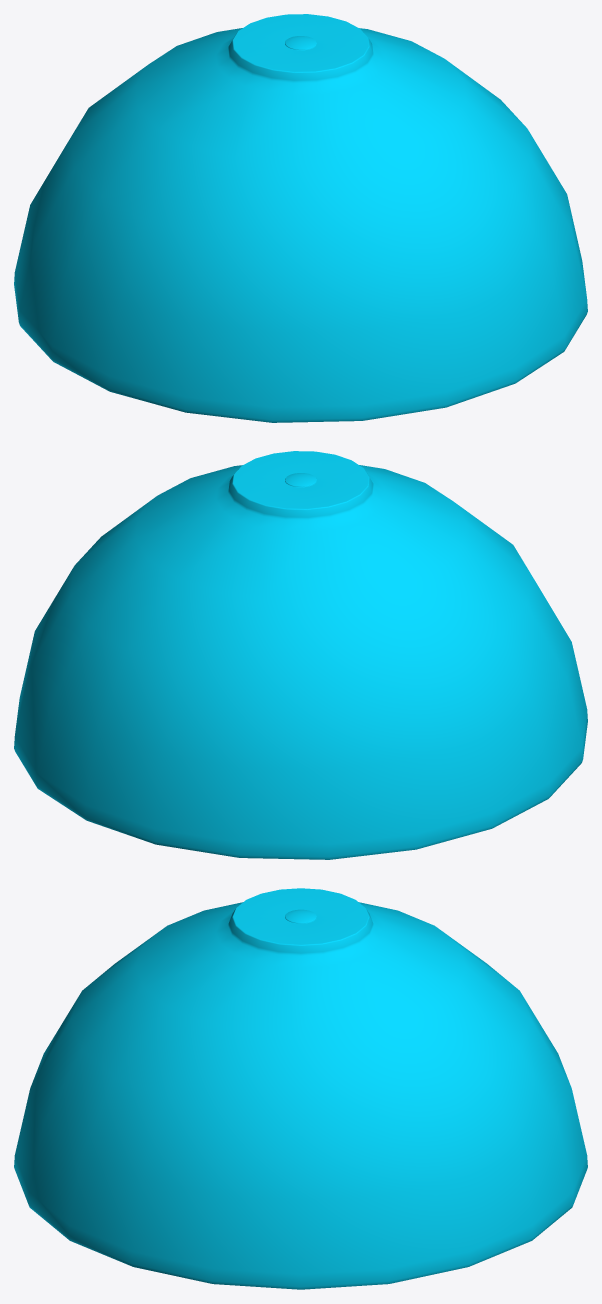
The model's file is Dome_2.fbx.
The picture shows the model from 3 angles, top to bottom: view 1: azimuth 30°, elevation 25°; view 2: azimuth 150°, elevation 25°; view 3: azimuth 270°, elevation 25°; orthographic projection.
Visible parts, largest first — view 1: Dome_2; view 2: Dome_2; view 3: Dome_2.
Part boxes in pixels (x1=…): Dome_2: x1=14, y1=14, x2=587, y2=422; Dome_2: x1=14, y1=451, x2=587, y2=859; Dome_2: x1=14, y1=888, x2=587, y2=1289.
Bounding box in the file's own units: 20.69 × 10.35 × 21.
